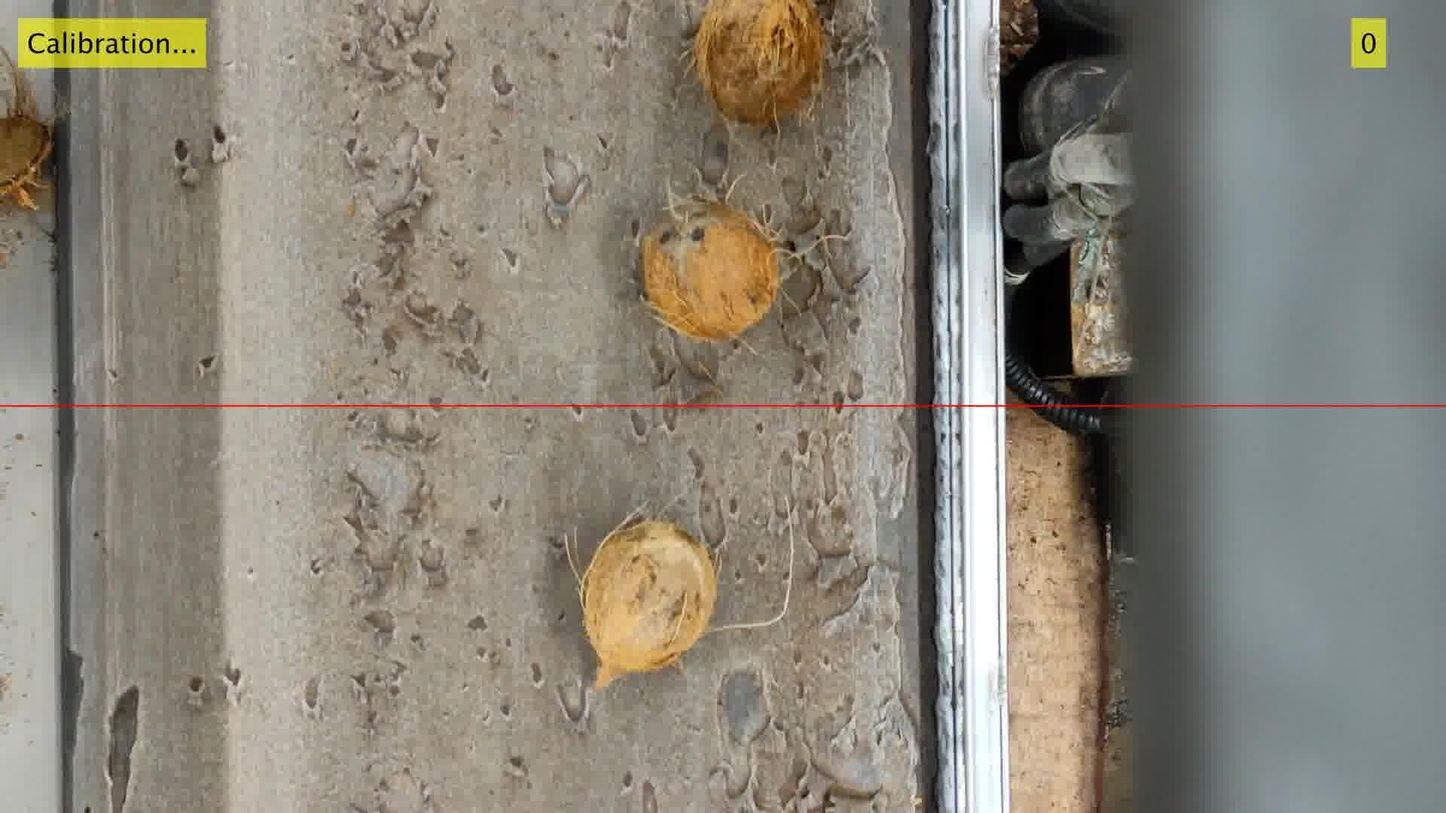Coconut: (632, 196, 790, 350), (579, 520, 718, 690), (694, 0, 826, 124), (0, 49, 53, 210)
